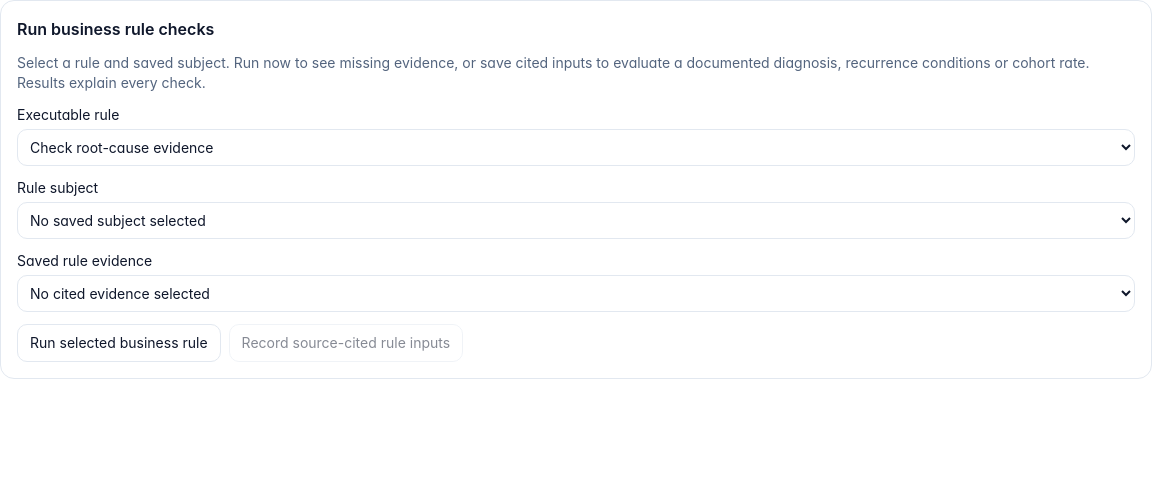
Test: handles explicit failures without fabricating a result
Select "Calculate evidence-backed failure rate" in the dropdown labelled "Executable rule": (576, 148) [17,129,1135,166]
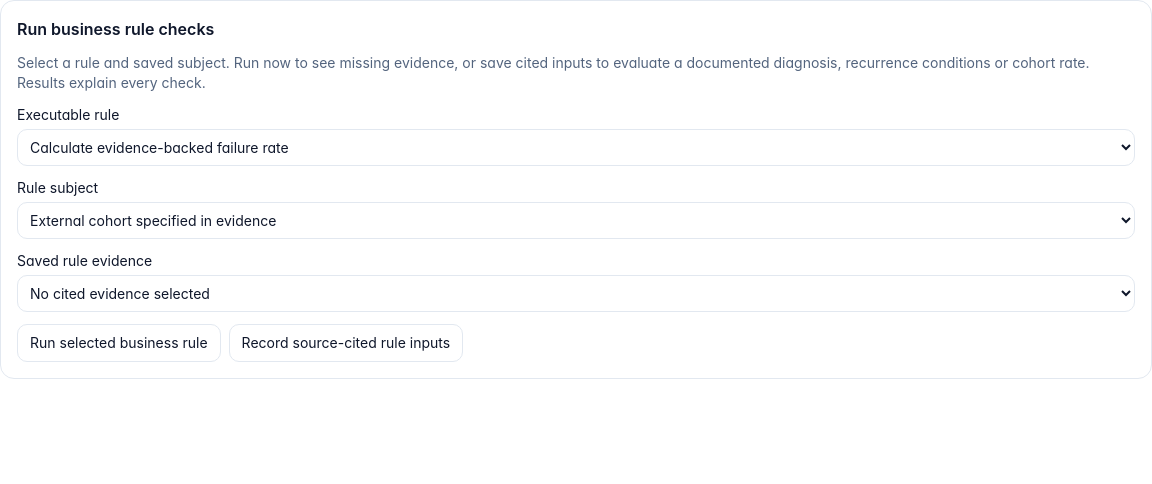
Click the button "Run selected business rule": (119, 343) [17,324,221,362]
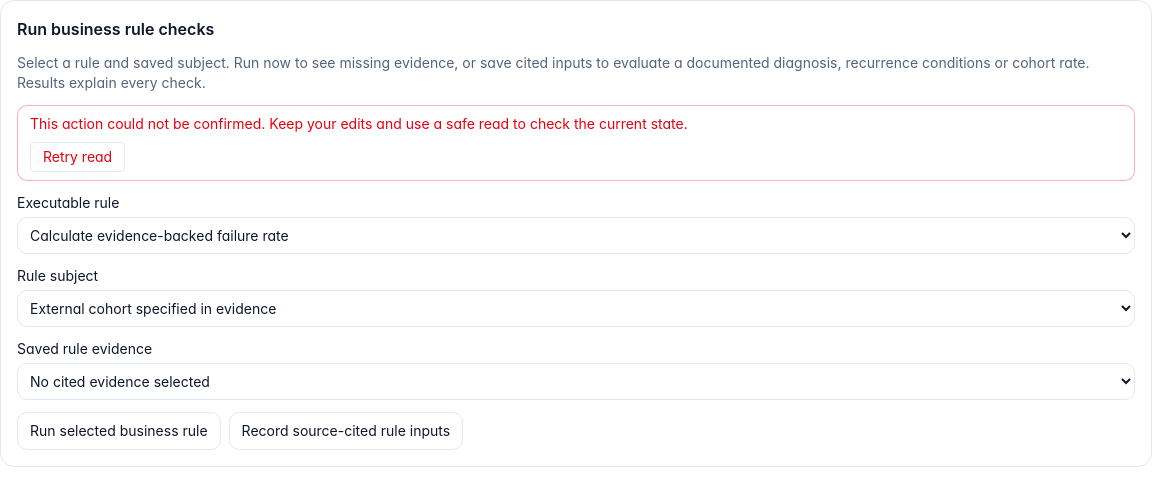
expect the button "Retry read" is shown: met, box [30,142,125,172]
